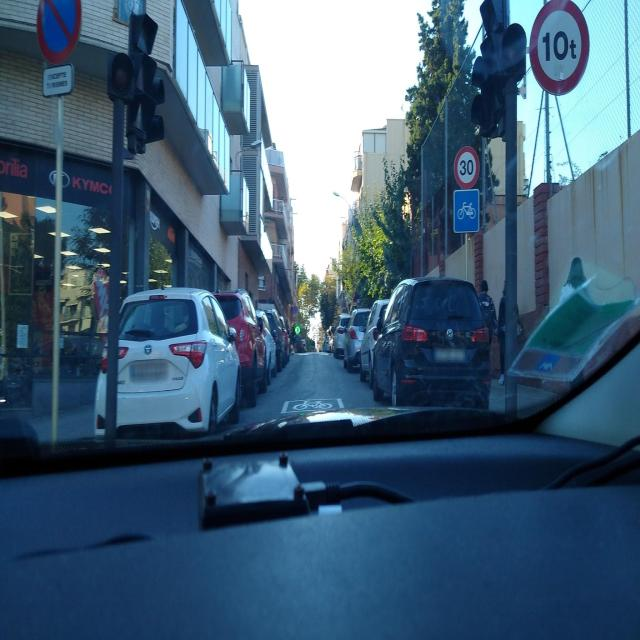forb_stopping: (36, 1, 83, 65), (293, 306, 298, 315)
